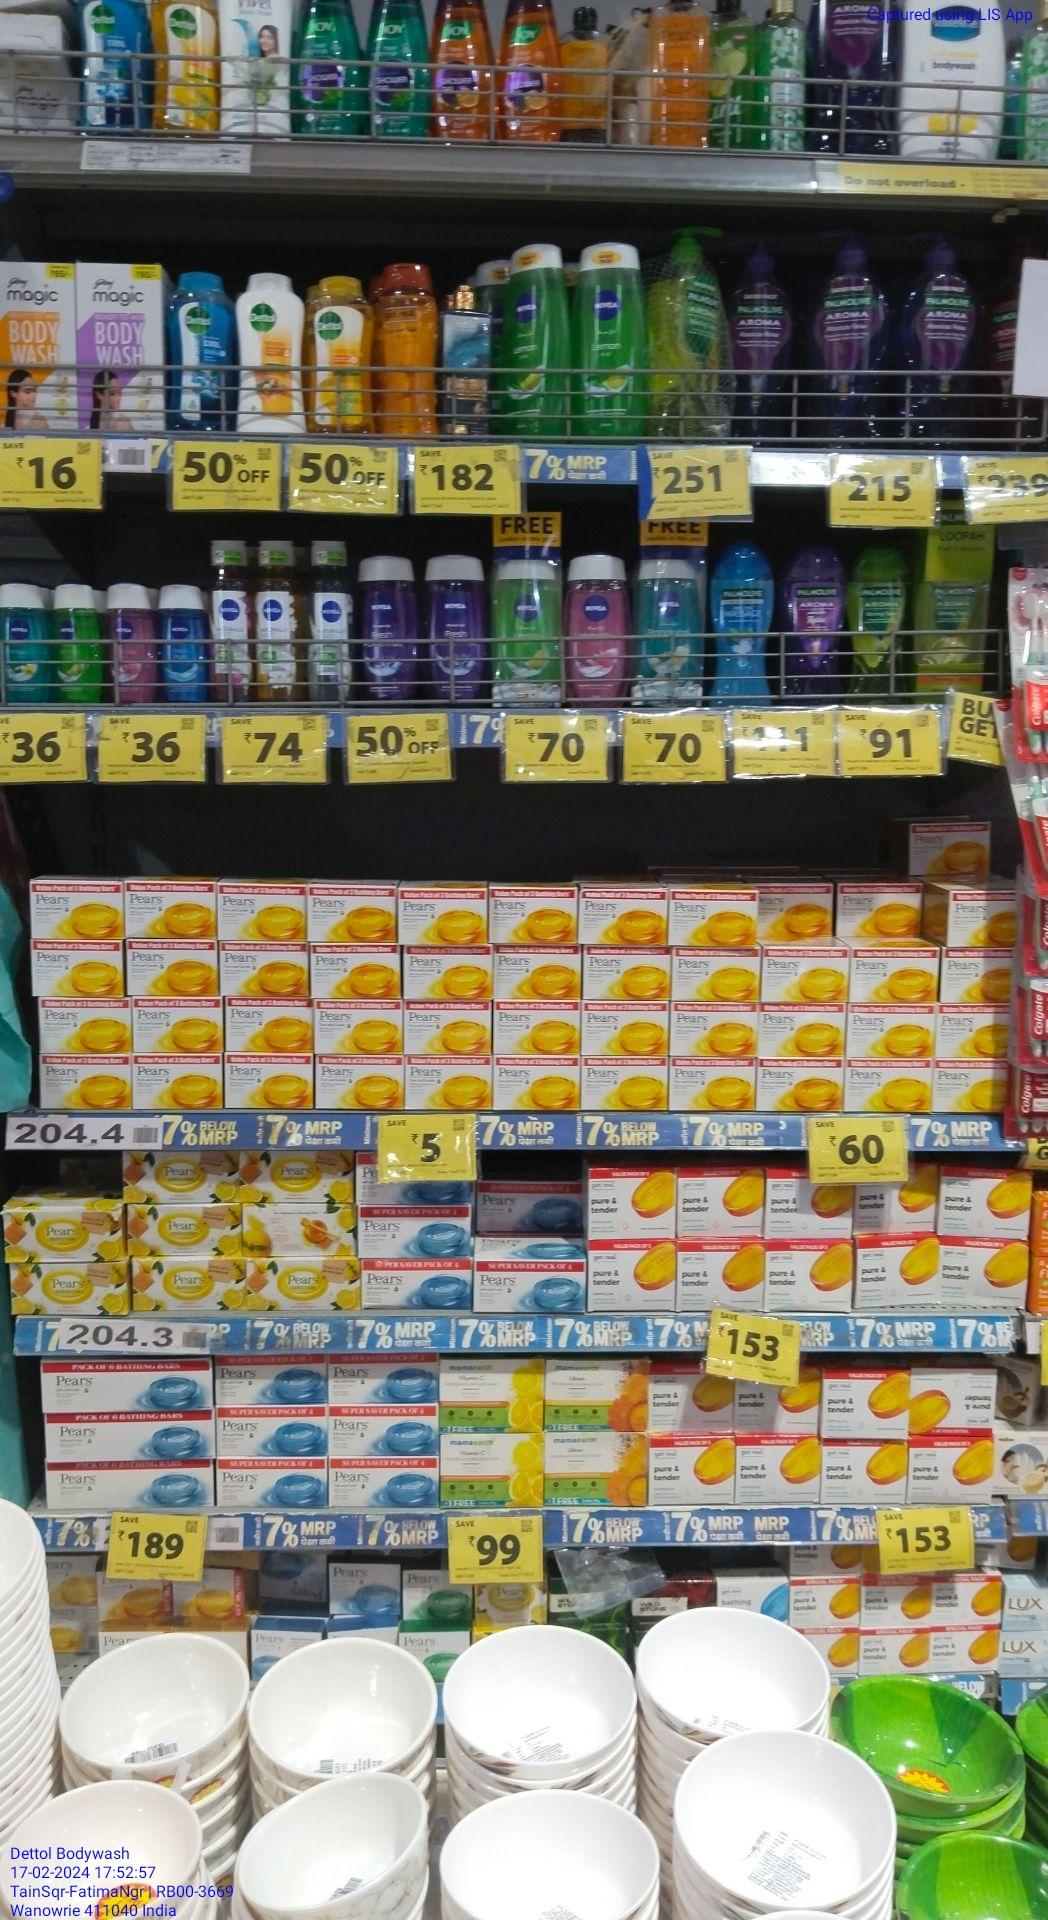Dettol_Bodywash_Cool: (168, 270, 237, 435), (79, 0, 142, 124)
Dettol_Bodywash_Refresh: (311, 271, 373, 428), (152, 0, 217, 132)
Dettol_Nourish_Body_Wash_250ML: (241, 270, 307, 432)
Get_Real_Shower_Gel_Moisturising_Glycerin_300ML: (378, 255, 440, 436)
Joy_Shower_Gel_Mandarin_and_Lemongrass_250ML: (497, 0, 560, 143), (436, 0, 496, 137)
Joy_Shower_Gel_Mint_and_Eucalyptus_250ML: (298, 0, 368, 132), (368, 0, 432, 135)
Lux_Body_Wash_Skin_Detox_Freesia_Scent_and_Alove_Vera_245ML: (758, 0, 811, 157)
Nivea_Shower_Gel_Fresh_Powerfruit_250ML: (419, 551, 485, 701), (358, 555, 417, 699)
Nivea_Shower_Gel_Lemon_and_Oil_250ML: (573, 240, 649, 440), (505, 245, 569, 432)
Nivea_Shower_Gel_Waterlily_and_Oil_250ML: (567, 552, 625, 705)
Palmolive_Aroma_Moments_Feel_The_Massage_Shower_Gel_250ML: (712, 543, 776, 702)
Palmolive_Aroma_Morning_Tonic_Shower_Gel_250ML: (848, 537, 906, 695)
Palmolive_Aroma_Relax_250ML: (780, 542, 844, 695)
